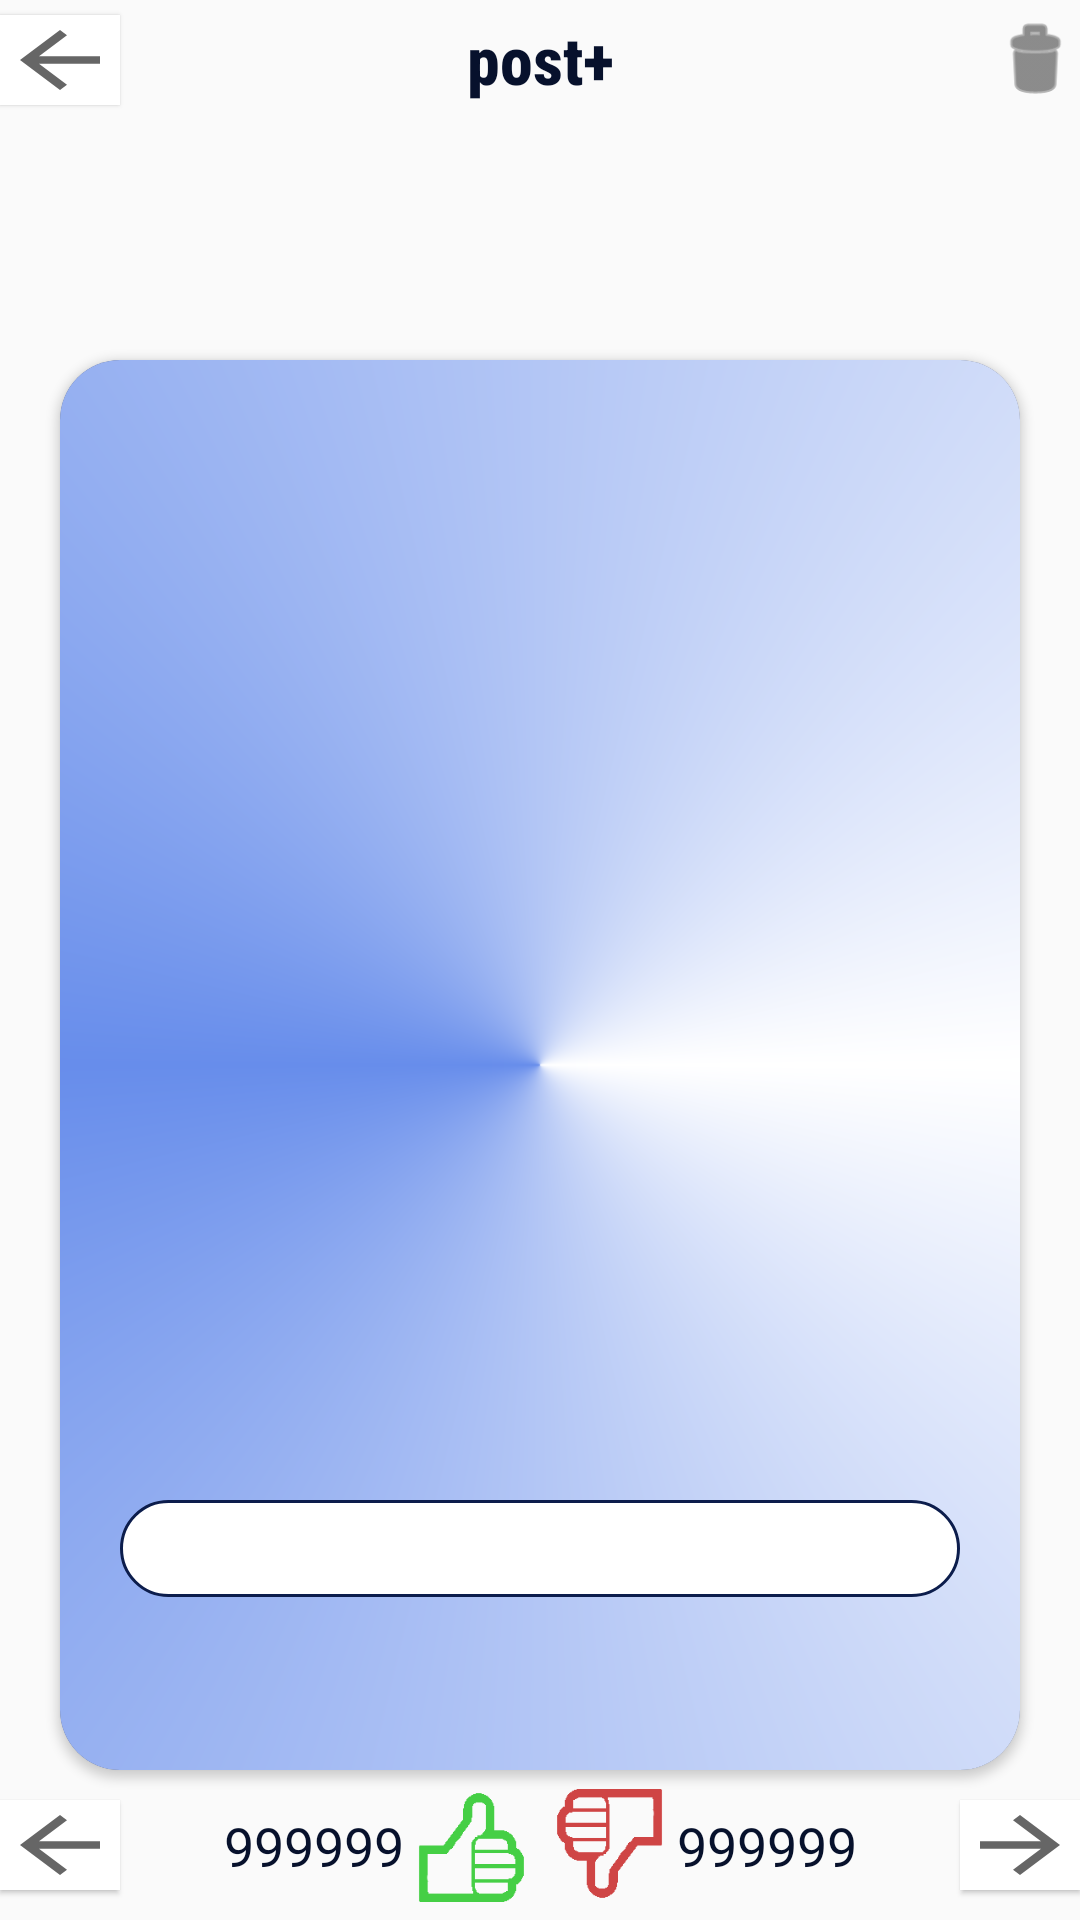

Point at icon controls on the screen. Image size 1080*1920, points as (x=x, y=y).
delete: (x=1035, y=58)
